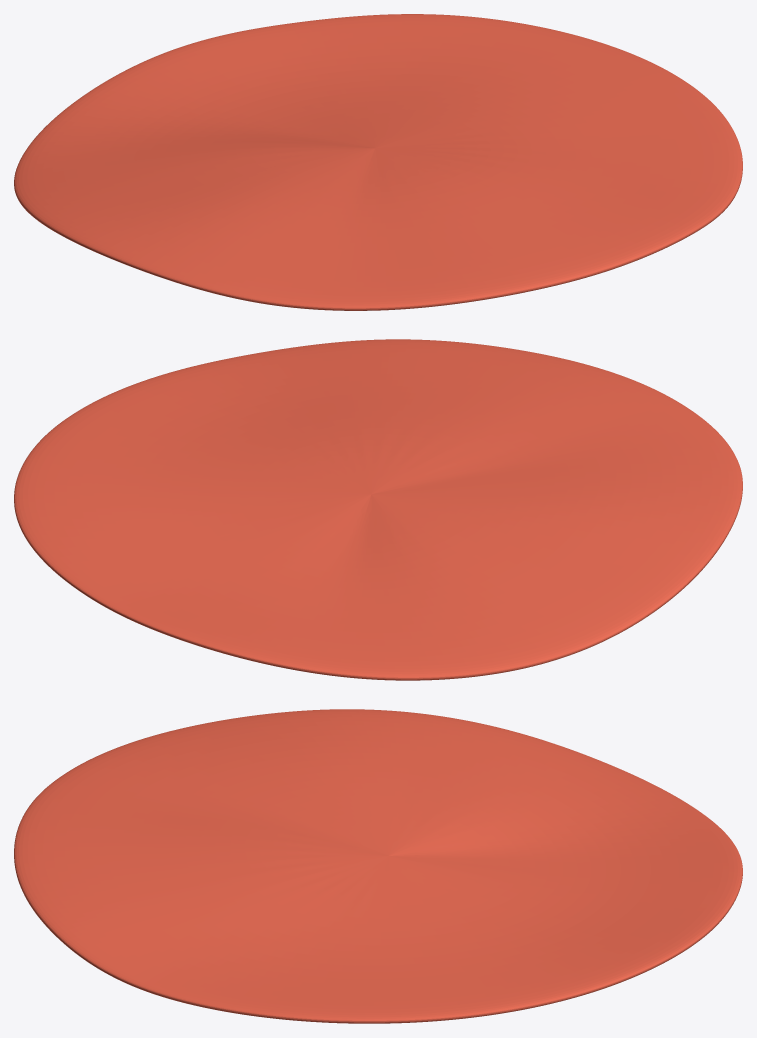
The model's file is pepperoni.fbx.
3 renders of one model, top to bottom at view 1: azimuth 30°, elevation 25°; view 2: azimuth 150°, elevation 25°; view 3: azimuth 270°, elevation 25°, orthographic. The views are drawn at different scales.
Parts seen in each view (by area): view 1: Pepperoni; view 2: Pepperoni; view 3: Pepperoni.
Boxes of the visible parts, x1,y1,x2,y2 form: Pepperoni: [14, 14, 742, 310]; Pepperoni: [14, 339, 742, 680]; Pepperoni: [14, 709, 742, 1023].
Size of the model in its own units: 3.67 by 0.2469 by 3.64.
